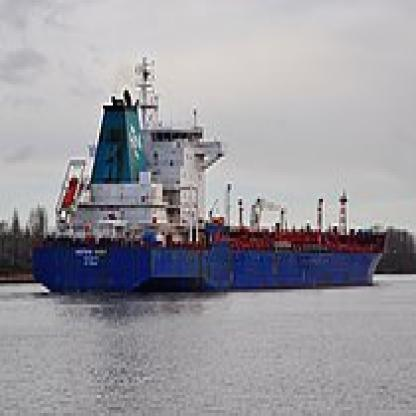Tanker: (32, 106, 390, 316)
